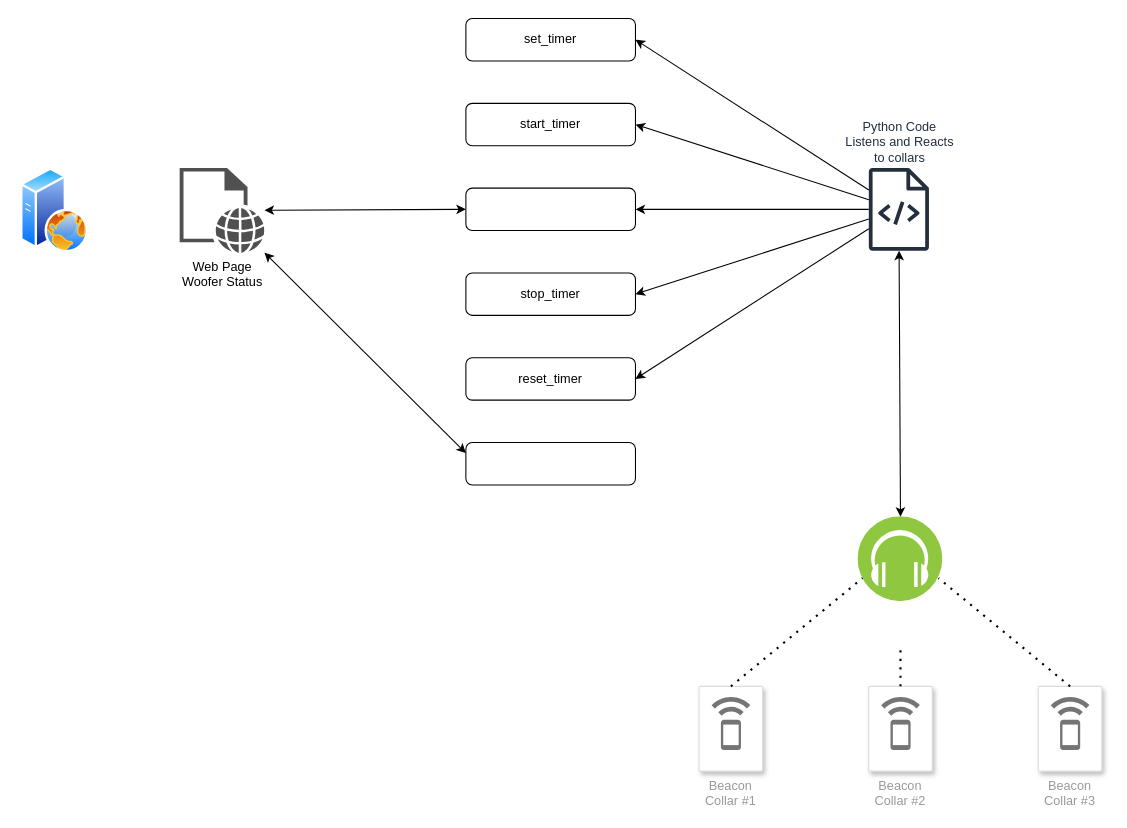
Some shapes in this 1127 by 828 pixel diagram are drawn without their labels. Each missing label, with the centre of its shape:
"Base Station" goes at point 54,209.
"get_time" goes at point 550,209.
"list_timers" goes at point 550,463.
"Woofer Beacon Listener" goes at point 900,558.
